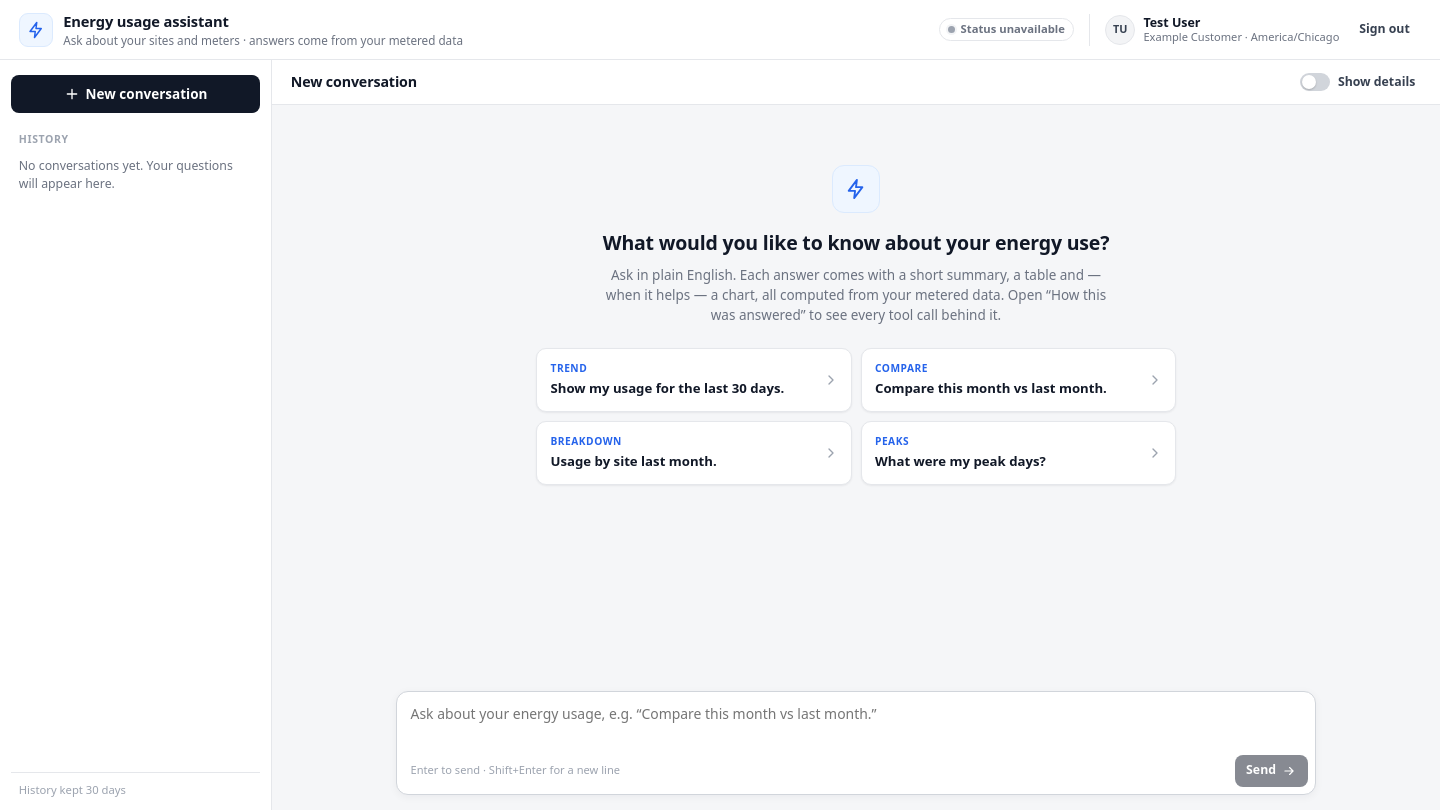
Test case: chat flow (dev auth, mocked fetch) › never resends when the stream ends without a result after it started
Type "Show my usage this month." into the text box labelled "Ask about your energy usage" at (856, 721), box x1=397 y1=692 x2=1315 y2=749
Then press Enter
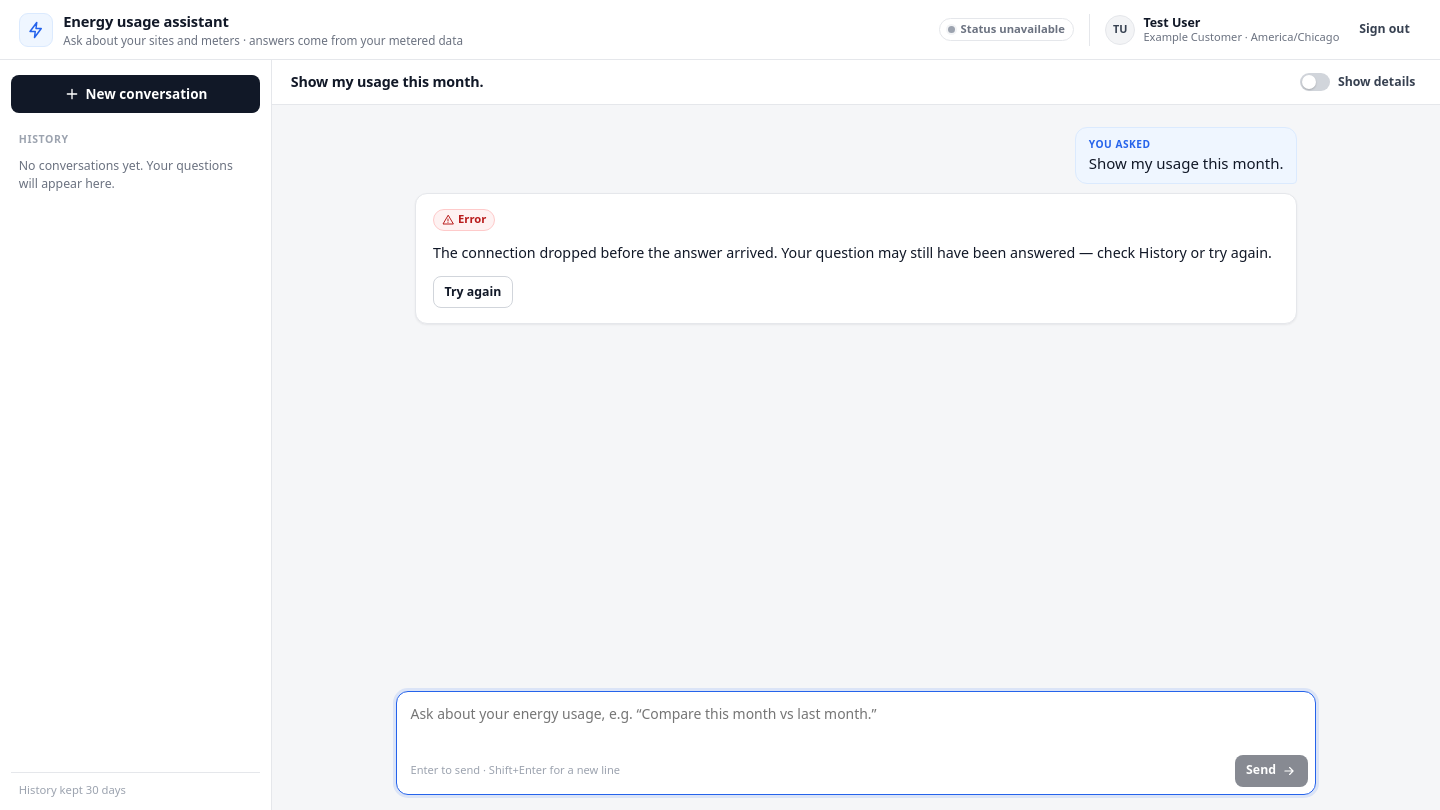
expect the message shows "The connection dropped before the answer arrived": met, box x1=433 y1=243 x2=1272 y2=262
expect the message shows "check History or try again": met, box x1=433 y1=243 x2=1272 y2=262
expect the button "Try again" is shown: met, box x1=433 y1=276 x2=513 y2=308
